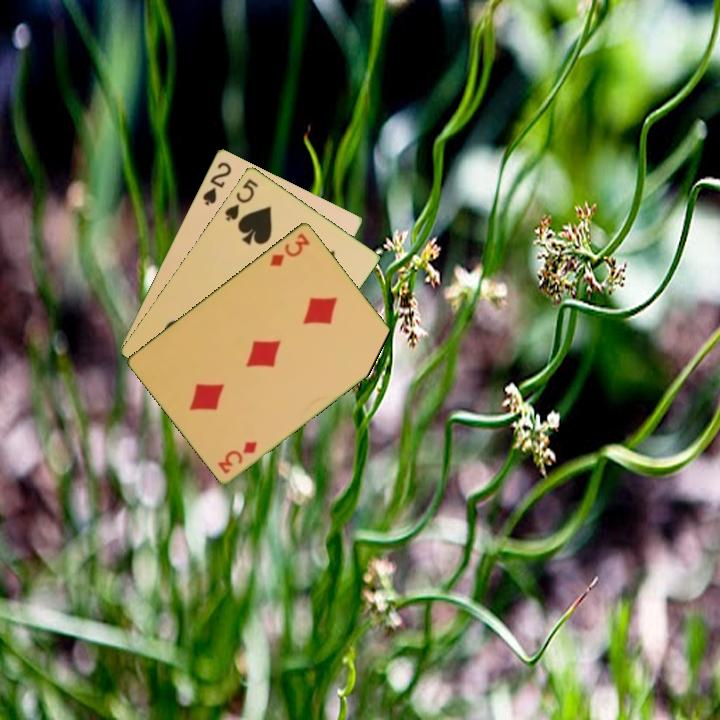2s: (199, 158, 234, 208)
3d: (265, 229, 313, 269), (214, 437, 260, 476)
5s: (221, 175, 261, 224)
